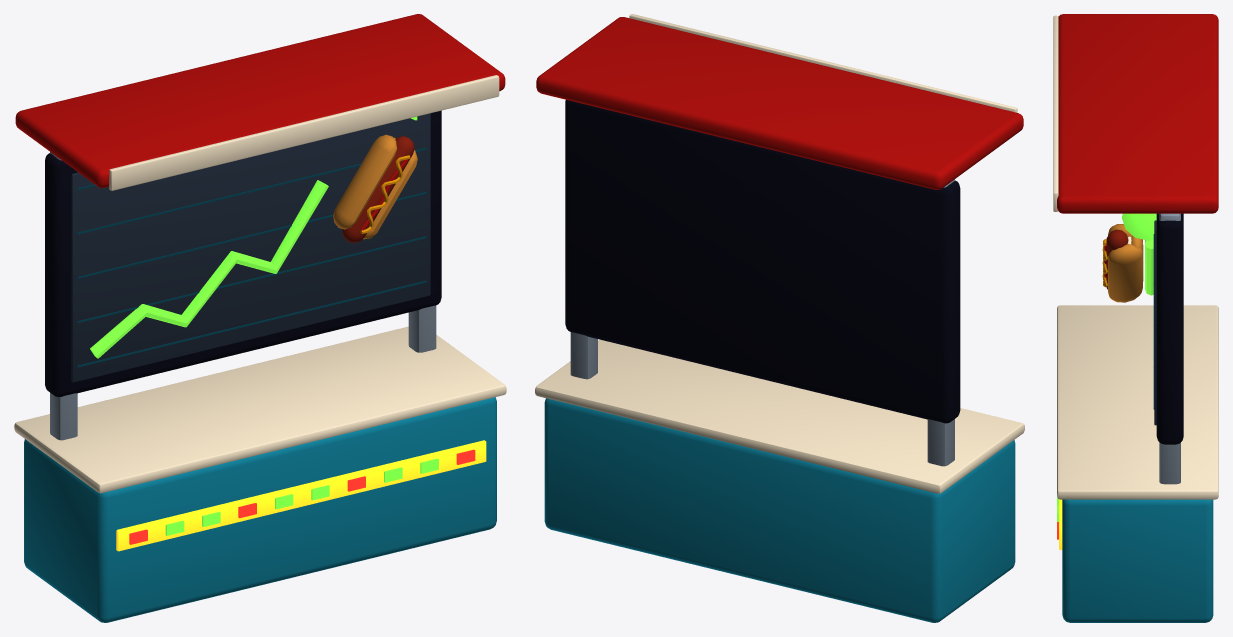
The model's file is TradingTicker.fbx.
3 renders of one model, left to right at view 1: azimuth 30°, elevation 25°; view 2: azimuth 150°, elevation 25°; view 3: azimuth 270°, elevation 25°, orthographic. The views are drawn at different scales.
Visible parts, largest first — view 1: TradingTicker; view 2: TradingTicker; view 3: TradingTicker.
Boxes of the visible parts, x1,y1,x2,y2 form: TradingTicker: (14, 14, 506, 622); TradingTicker: (535, 14, 1024, 622); TradingTicker: (1053, 14, 1218, 622).
Size of the model in its own units: 8.2 by 8.8 by 3.07.
